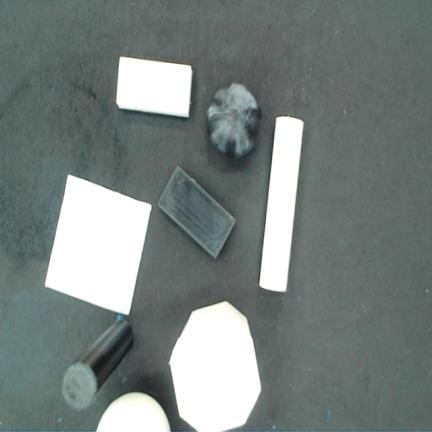Cilindro: (259, 116, 303, 292), (62, 320, 132, 410)
Esfera: (207, 83, 261, 157), (96, 392, 170, 431)
Paralelepipedo: (159, 166, 235, 257), (116, 57, 192, 117)
Piramide: (45, 175, 151, 314)
Prisma_hexagonal: (169, 301, 261, 431)
